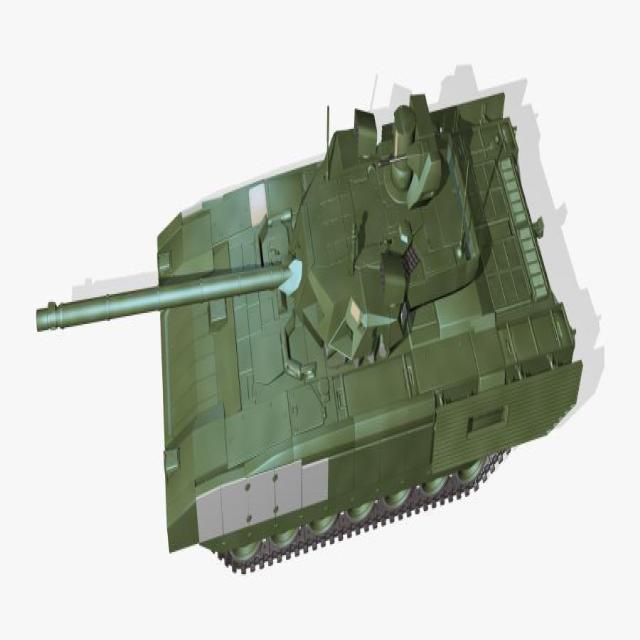Tanks: (105, 98, 570, 514)
